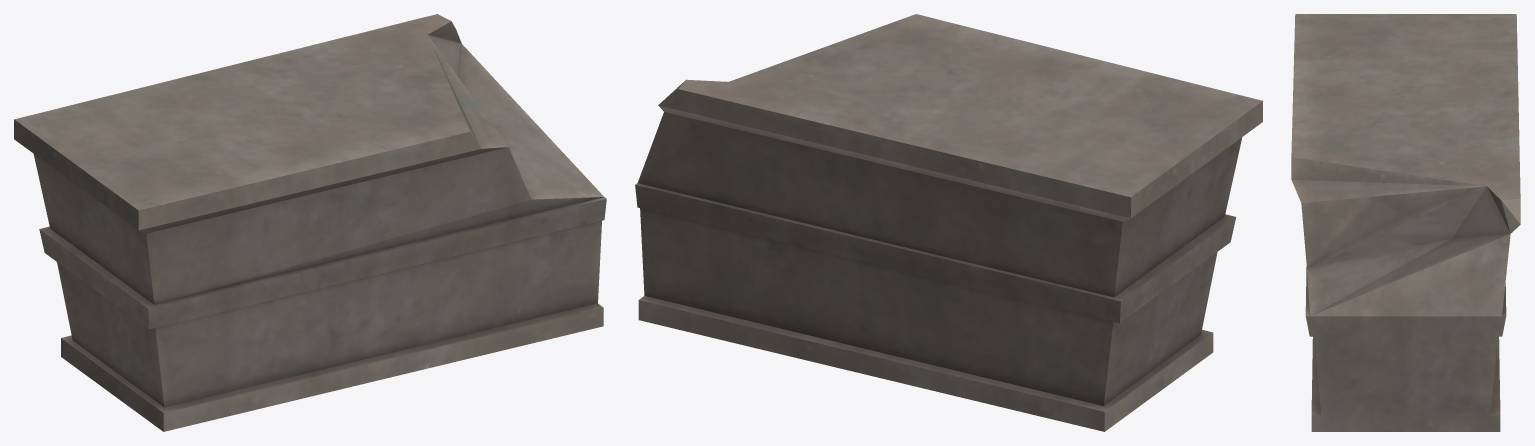
File: sb_obj_outdoor009_AncientTemple_WallTopC_col.fbx
3 renders of one model, left to right at view 1: azimuth 30°, elevation 25°; view 2: azimuth 150°, elevation 25°; view 3: azimuth 270°, elevation 25°, orthographic. The views are drawn at different scales.
Parts seen in each view (by area): view 1: sb_obj_outdoor009_AncientTemple_WallTopC_col; view 2: sb_obj_outdoor009_AncientTemple_WallTopC_col; view 3: sb_obj_outdoor009_AncientTemple_WallTopC_col.
Boxes of the visible parts, left/top/right/bottom form: sb_obj_outdoor009_AncientTemple_WallTopC_col: left=14, top=14, right=606, bottom=431; sb_obj_outdoor009_AncientTemple_WallTopC_col: left=635, top=14, right=1262, bottom=431; sb_obj_outdoor009_AncientTemple_WallTopC_col: left=1291, top=14, right=1520, bottom=431.
Bounding box in the file's own units: 4.13 × 1.98 × 1.94.
